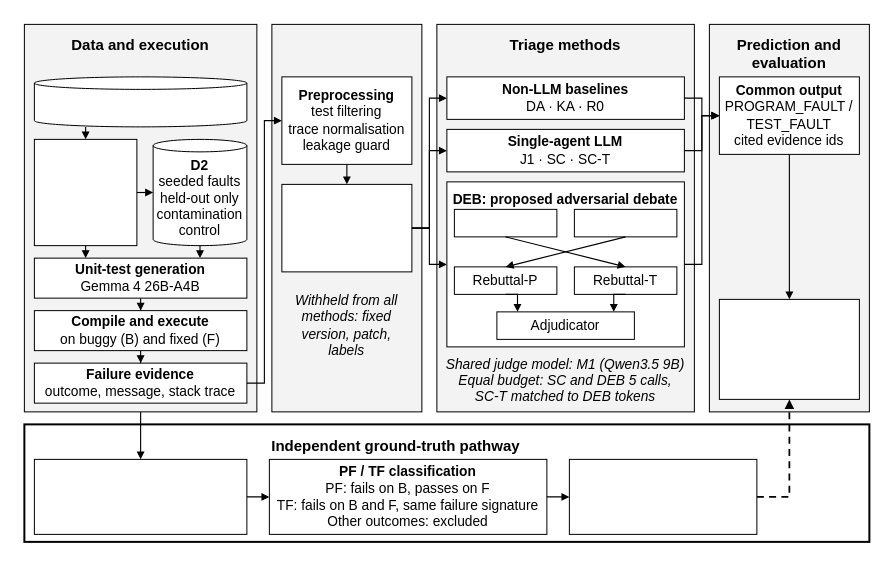
The diagram is 893 pixels wide and 565 high, and some of its shapes have lost their labels. Here are the shapes that lost their labels. From the top down, the box of each, then its label:
(33, 76, 247, 127): D1 · Defects4J 3.0.1 real faults
(33, 138, 137, 245): Project split dev: 3 projects (prompts, thresholds) held-out: 14
(271, 23, 422, 412): Evidence preparation
(281, 183, 412, 272): Evidence package S0 / S1 / S2 specification levels
(453, 208, 557, 237): Advocate-P
(573, 208, 677, 237): Advocate-T
(718, 298, 859, 399): Evaluation vs sealed labels: classification error and retention efficiency
(33, 458, 247, 534): Execution outcomes every run on B and F
(568, 458, 757, 534): Sealed labels never exposed to any triage method or LLM judge
